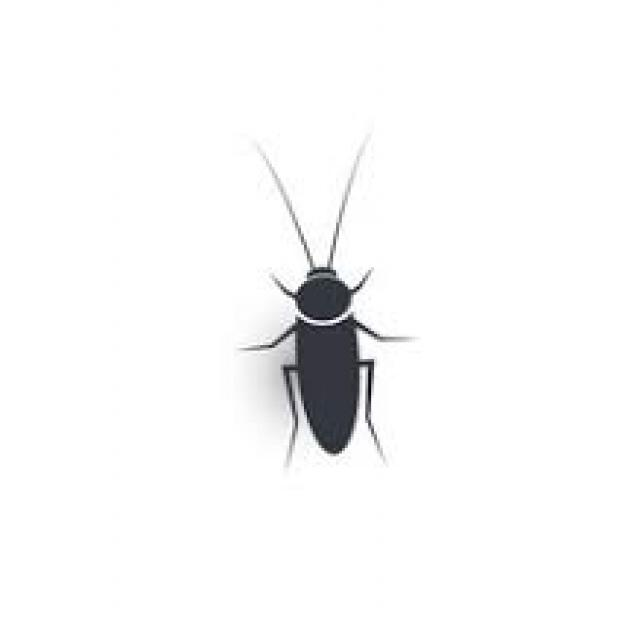Cockroach: (229, 115, 417, 487)
